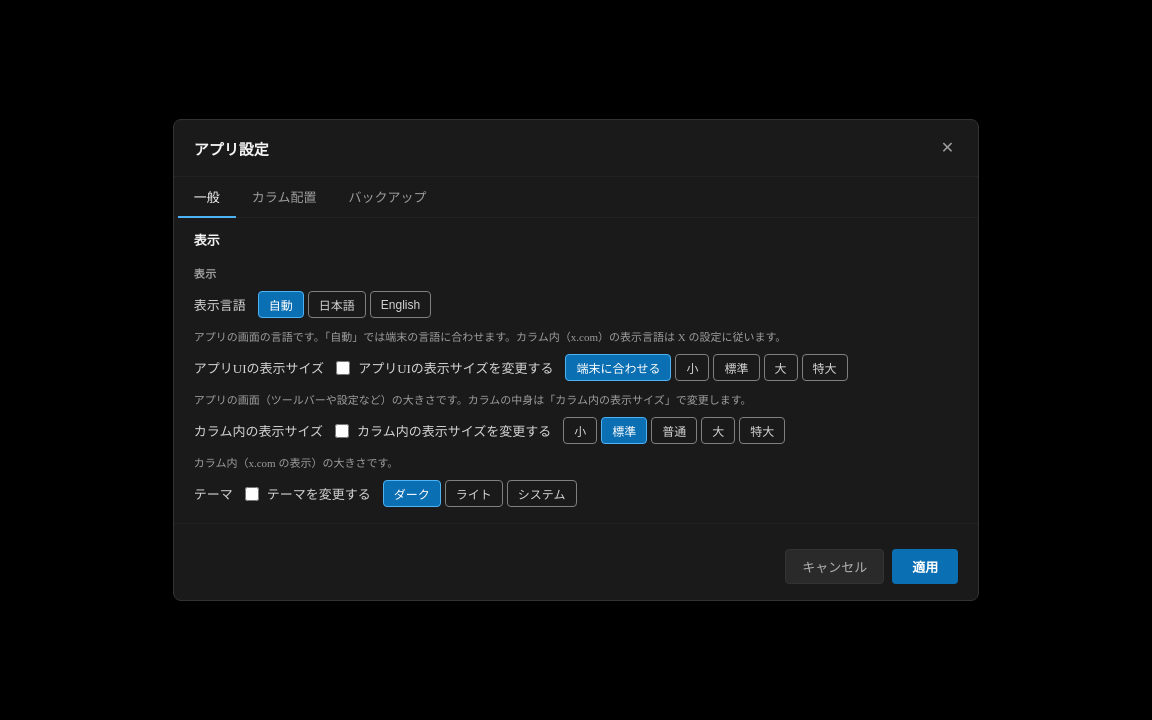
Test: AppSettingsPanel モバイルのカラム並び替え › isMobile=true でカラム配置タブを開くと表示順序セクションが表示される
This screenshot has width=1152, height=720.
Click the button "カラム配置": (284, 198) [236, 177, 332, 218]
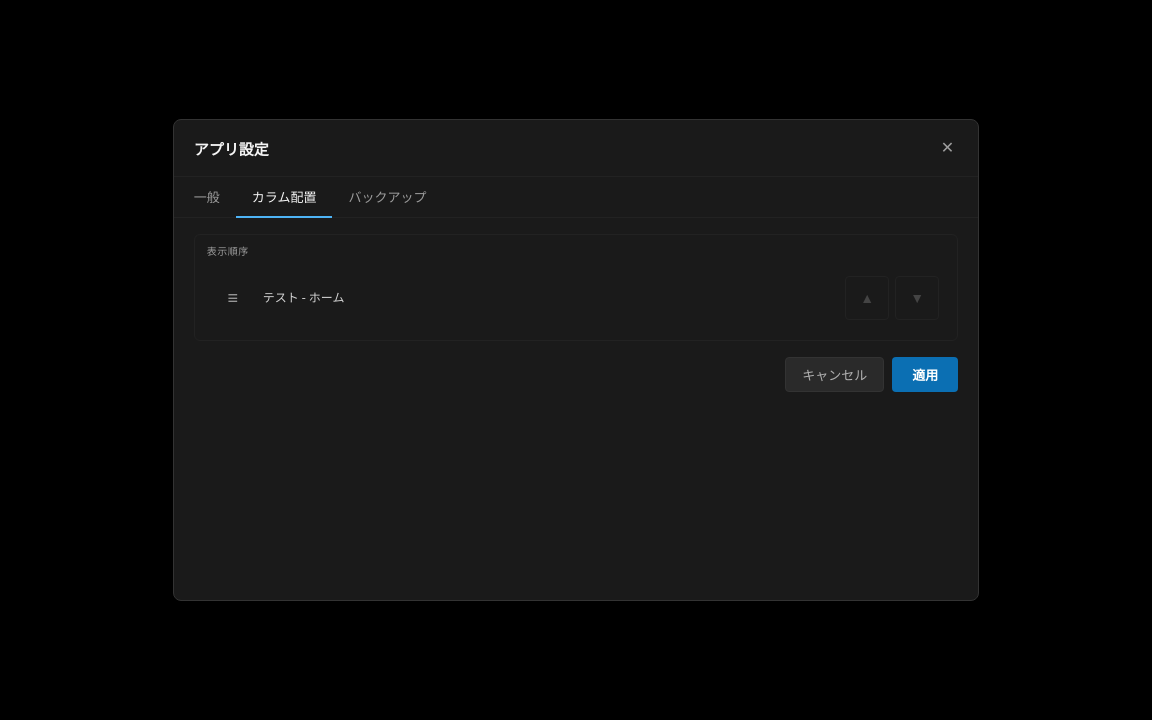
Result: the text "表示順序" is shown at [207, 246, 249, 257]
